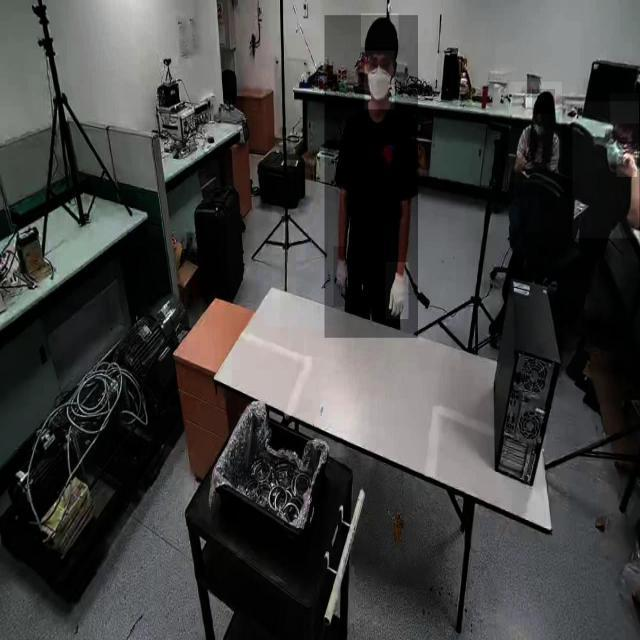gloves: (386, 262, 408, 320), (334, 246, 354, 308)
